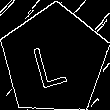L_N: (34, 32, 75, 89)
